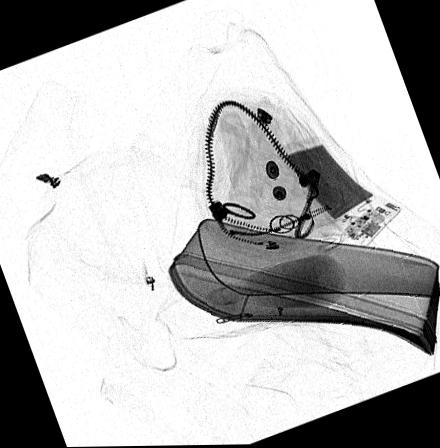Powerbank: (283, 137, 401, 248)
